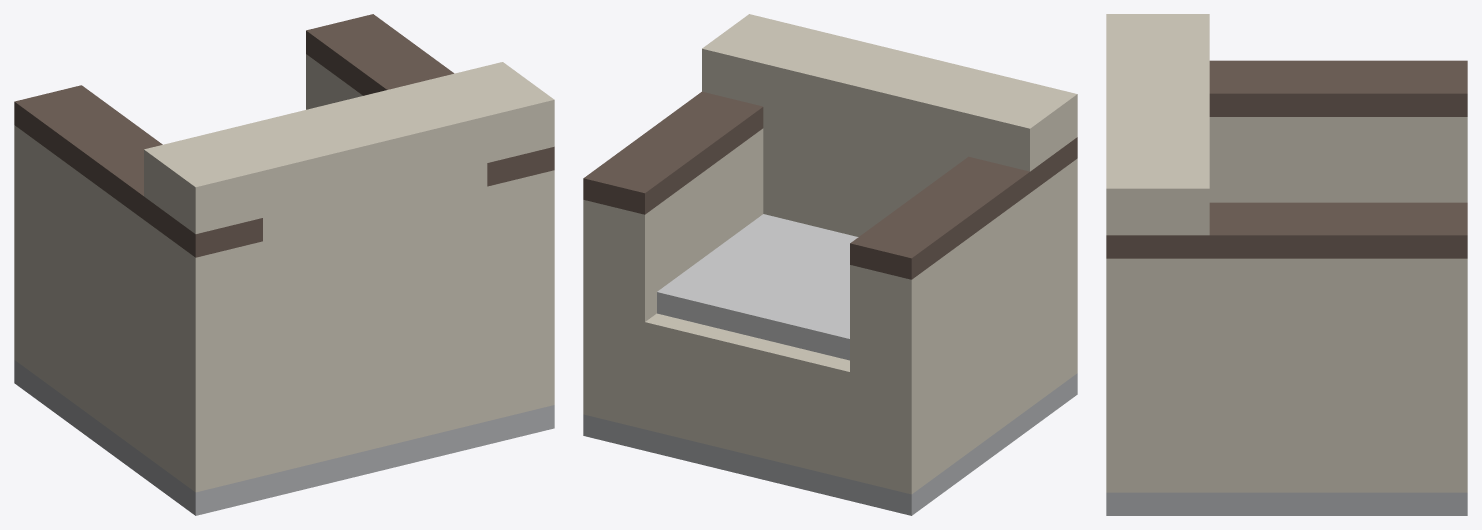
The model's file is fauteuil.glb.
3 renders of one model, left to right at view 1: azimuth 30°, elevation 25°; view 2: azimuth 150°, elevation 25°; view 3: azimuth 270°, elevation 25°, orthographic. The views are drawn at different scales.
Visible parts, largest first — view 1: main; view 2: main; view 3: main.
Part boxes in pixels (left/top/right/bottom): main: left=14, top=14, right=554, bottom=515; main: left=583, top=14, right=1077, bottom=515; main: left=1106, top=14, right=1467, bottom=515.
Bounding box in the file's own units: 1 × 0.875 × 0.875.
